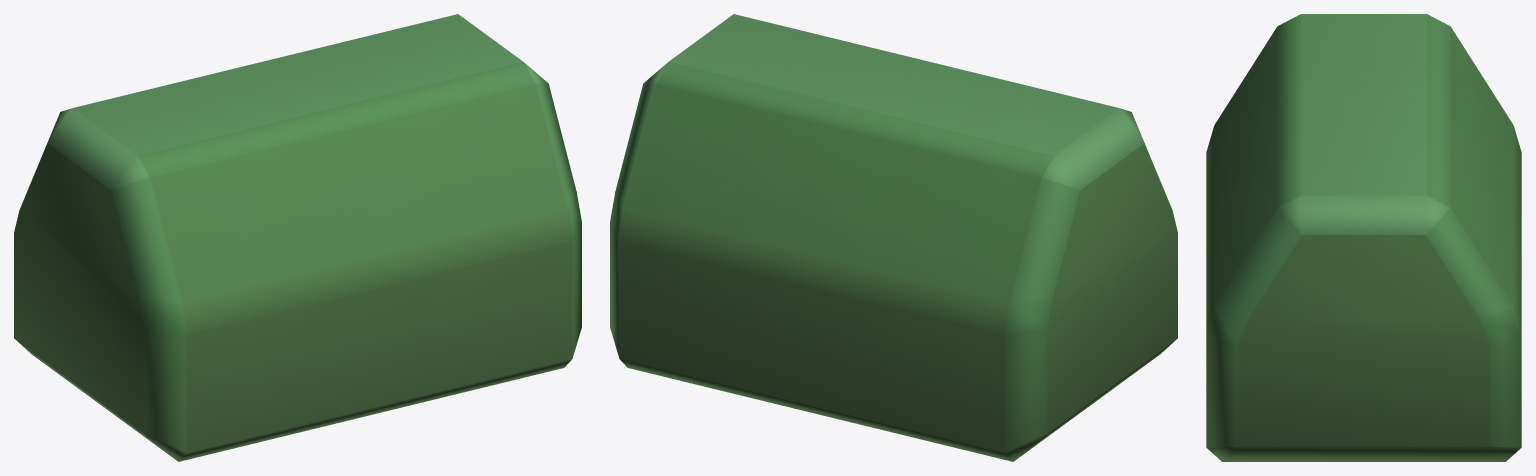
Rendered from border_straight_short.fbx.
The picture shows the model from 3 angles, left to right: view 1: azimuth 30°, elevation 25°; view 2: azimuth 150°, elevation 25°; view 3: azimuth 270°, elevation 25°; orthographic projection. The views are drawn at different scales.
Visible parts, largest first — view 1: border_straight_short; view 2: border_straight_short; view 3: border_straight_short.
Boxes of the visible parts, x1=… form: border_straight_short: x1=14, y1=14, x2=581, y2=461; border_straight_short: x1=610, y1=14, x2=1177, y2=461; border_straight_short: x1=1206, y1=14, x2=1521, y2=461.
Bounding box in the file's own units: 77.28 × 46.65 × 50.
